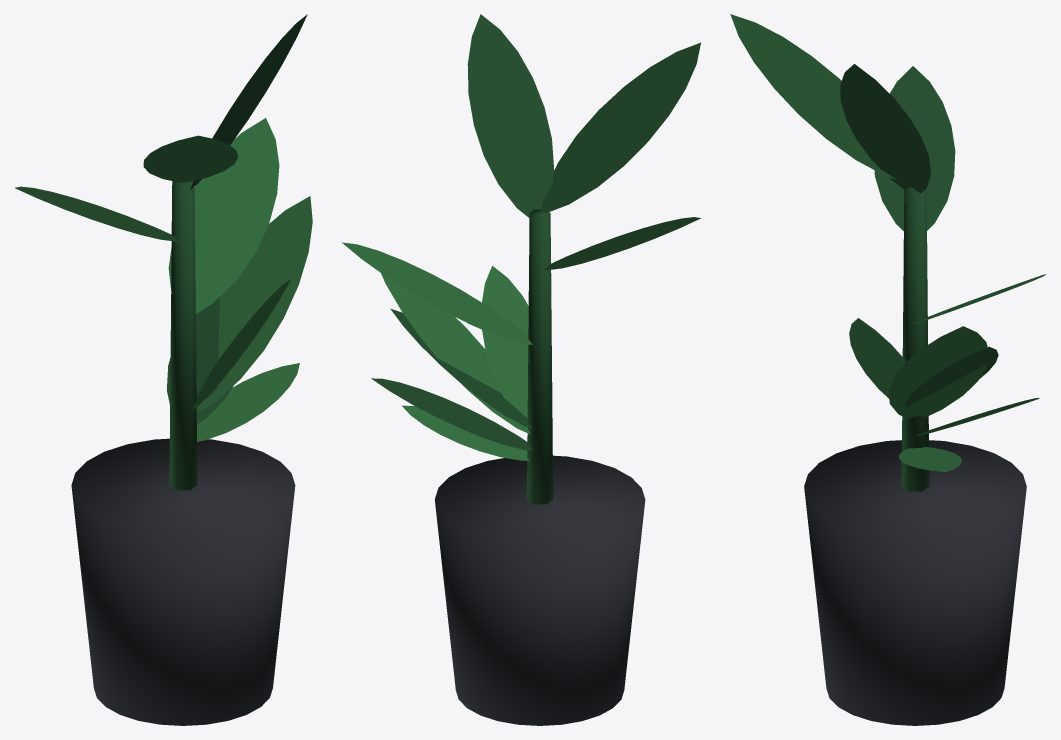
Rendered from Deco_Plant_Small.001.gltf.
3 renders of one model, left to right at view 1: azimuth 30°, elevation 25°; view 2: azimuth 150°, elevation 25°; view 3: azimuth 270°, elevation 25°, orthographic. The views are drawn at different scales.
Visible parts, largest first — view 1: Deco_Plant_Small.001; view 2: Deco_Plant_Small.001; view 3: Deco_Plant_Small.001.
Boxes of the visible parts, bbox=[...] form: Deco_Plant_Small.001: bbox=[15, 14, 312, 725]; Deco_Plant_Small.001: bbox=[342, 14, 700, 725]; Deco_Plant_Small.001: bbox=[730, 14, 1046, 725].
Size of the model in its own units: 0.1989 by 0.3984 by 0.1705.
